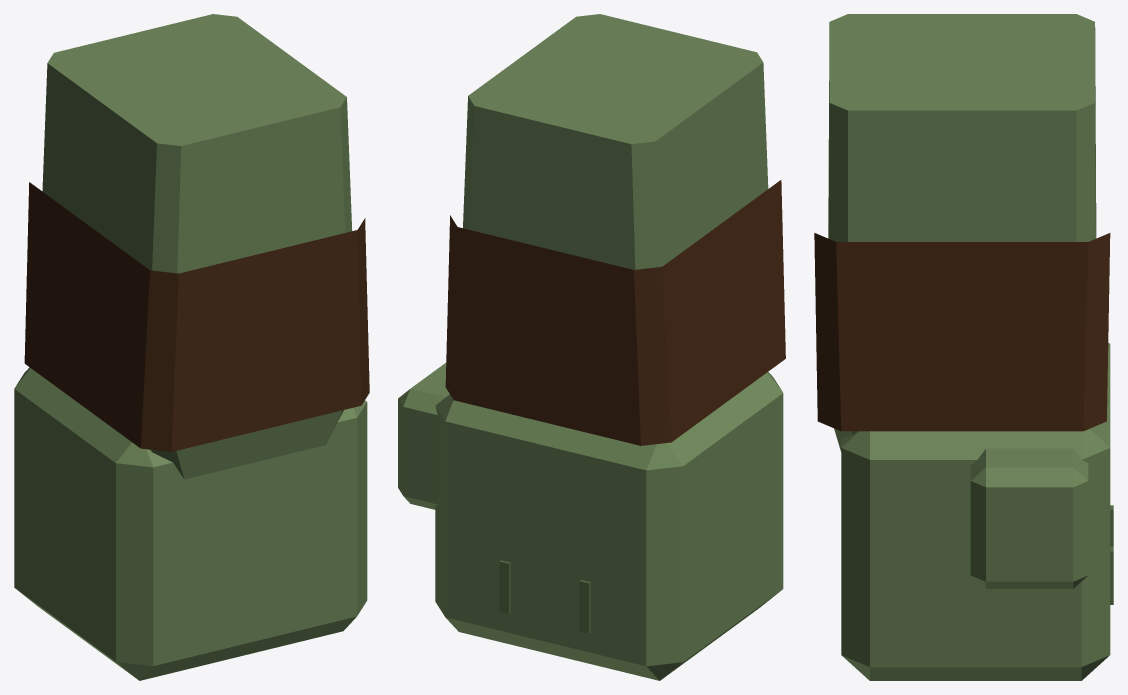
File: ForearmLeft.glb
3 views of the same model, side by side, from view 1: azimuth 30°, elevation 25°; view 2: azimuth 150°, elevation 25°; view 3: azimuth 270°, elevation 25° (orthographic). The views are drawn at different scales.
Visible parts, largest first — view 1: Sculpture; view 2: Sculpture; view 3: Sculpture.
Part boxes in pixels (x1,y1,x2,y2): Sculpture: [14, 14, 369, 680]; Sculpture: [398, 14, 785, 680]; Sculpture: [814, 14, 1113, 680].
Bounding box in the file's own units: 0.21 × 0.372 × 0.178.
